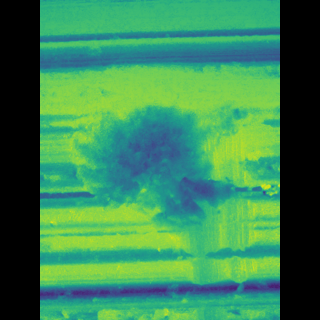Loch: (88, 84, 238, 292)
